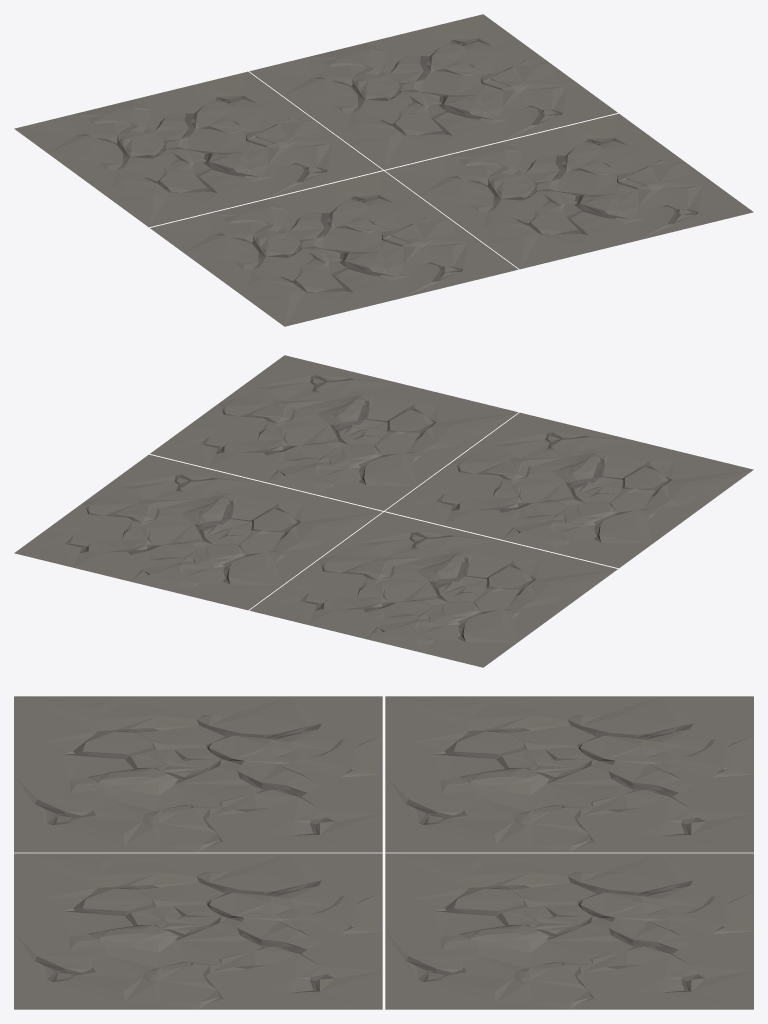
The model's file is StageTest(ascii).FBX.
3 renders of one model, top to bottom at view 1: azimuth 30°, elevation 25°; view 2: azimuth 150°, elevation 25°; view 3: azimuth 270°, elevation 25°, orthographic. The views are drawn at different scales.
Visible parts, largest first — view 1: SM_Env_CrackedRock_4, SM_Env_CrackedRock_5, SM_Env_CrackedRock_3, SM_Env_CrackedRock_6; view 2: SM_Env_CrackedRock_3, SM_Env_CrackedRock_6, SM_Env_CrackedRock_4, SM_Env_CrackedRock_5; view 3: SM_Env_CrackedRock_3, SM_Env_CrackedRock_4, SM_Env_CrackedRock_5, SM_Env_CrackedRock_6.
Boxes of the visible parts, x1,y1,x2,y2 form: SM_Env_CrackedRock_4: (249, 14, 617, 169); SM_Env_CrackedRock_5: (150, 171, 518, 326); SM_Env_CrackedRock_3: (385, 113, 753, 269); SM_Env_CrackedRock_6: (14, 71, 382, 227); SM_Env_CrackedRock_3: (150, 355, 518, 510); SM_Env_CrackedRock_6: (249, 512, 617, 667); SM_Env_CrackedRock_4: (14, 454, 382, 610); SM_Env_CrackedRock_5: (385, 412, 753, 568); SM_Env_CrackedRock_3: (14, 853, 382, 1009); SM_Env_CrackedRock_4: (385, 853, 753, 1009); SM_Env_CrackedRock_5: (14, 696, 382, 852); SM_Env_CrackedRock_6: (385, 696, 753, 852).
Size of what is drawn, in the model's own units: 200 by 199 by 2.5.
